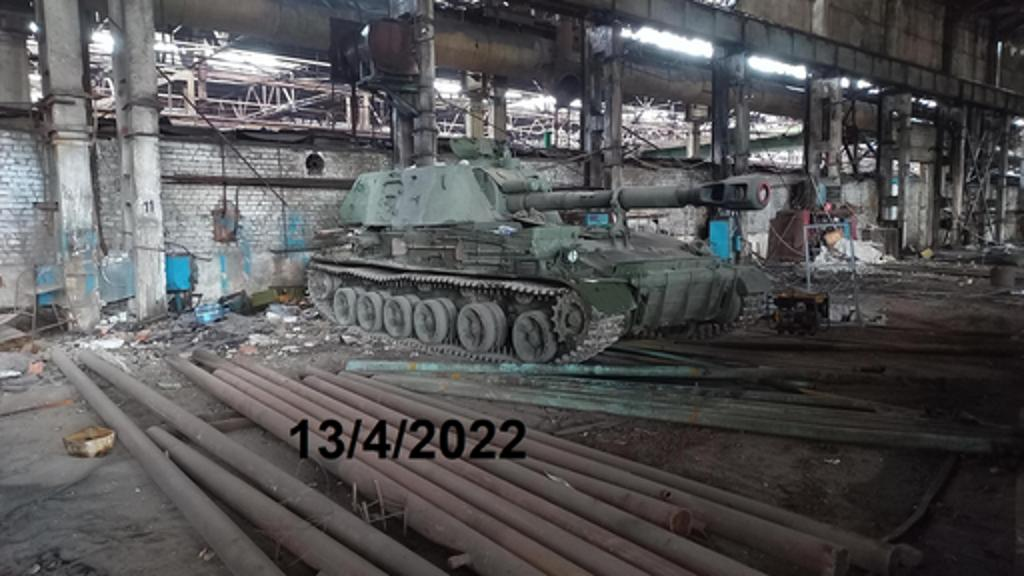ART: (300, 158, 784, 372)
